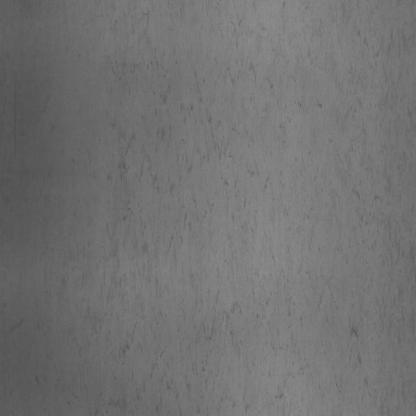silk_spot: (73, 80, 300, 374)
